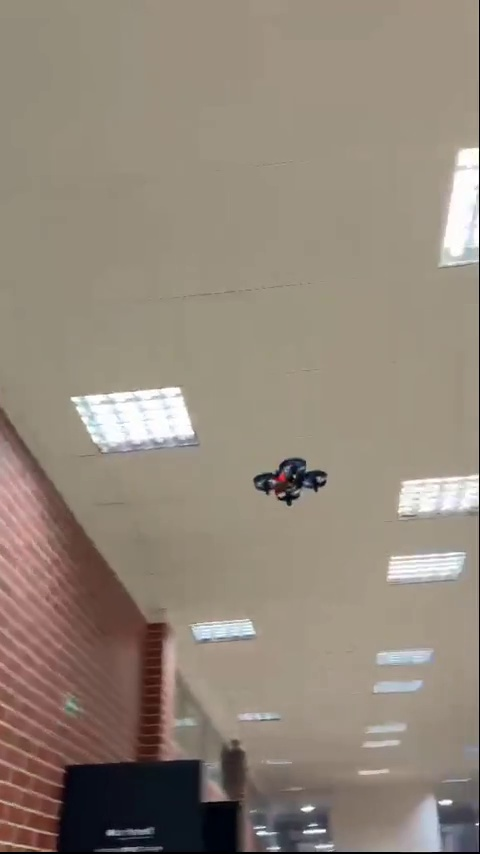drone: (251, 457, 328, 511)
